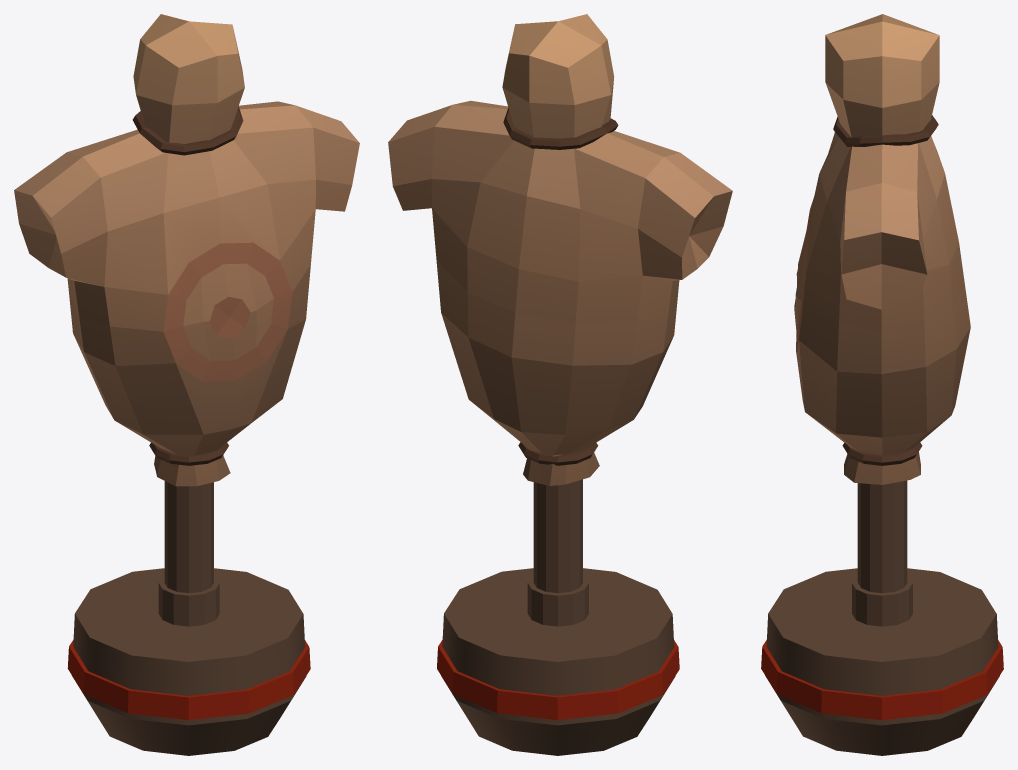
File: Dummy_1.fbx
3 renders of one model, left to right at view 1: azimuth 30°, elevation 25°; view 2: azimuth 150°, elevation 25°; view 3: azimuth 270°, elevation 25°, orthographic.
Parts seen in each view (by area): view 1: Dummy_1; view 2: Dummy_1; view 3: Dummy_1.
Boxes of the visible parts, x1,y1,x2,y2 form: Dummy_1: (14, 14, 359, 755); Dummy_1: (388, 14, 732, 755); Dummy_1: (761, 14, 1003, 755).
Bounding box in the file's own units: 56.45 × 122 × 38.51.
